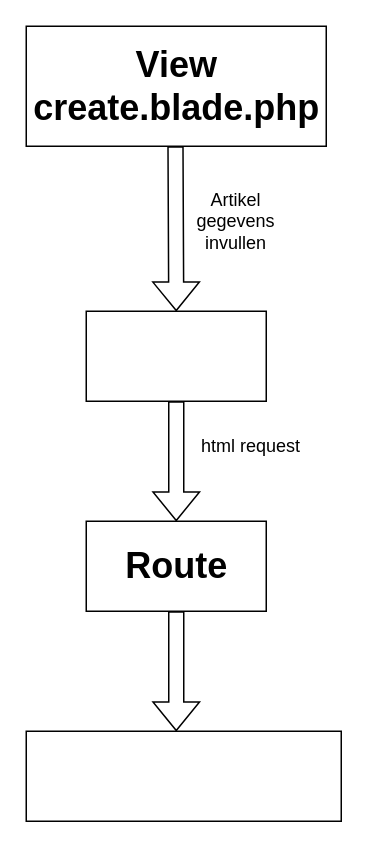
Image size: 368x848. Some labels were removed from this diagram. Each missing label, with the centre of its shape:
ArticleController: the point at 183,775
Knop: the point at 175,355
